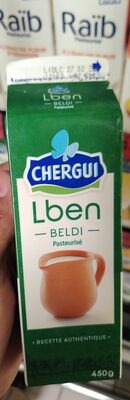Leben BELDI: (6, 20, 124, 380)
